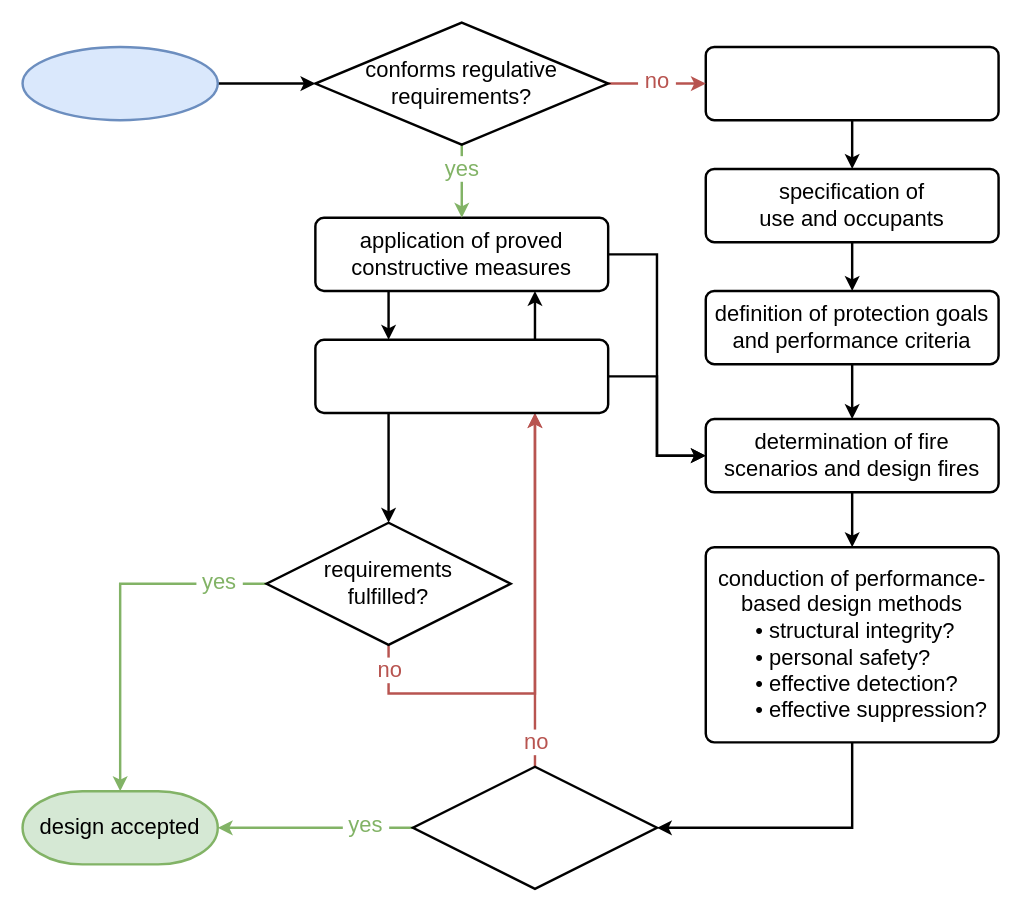
The diagram is 1020 pixels wide and 910 high, and some of its shapes have lost their labels. The shapes that lost their labels are listed below. From the top down, each one's box as (x1, y1, x2, y2) in pixels, then its label:
(21, 45, 218, 121): begin design
(704, 45, 999, 121): assessment of fire safety relevant conditions
(314, 338, 609, 414): if needed, application of technical measures
(411, 765, 658, 889): protection goals achieved?
